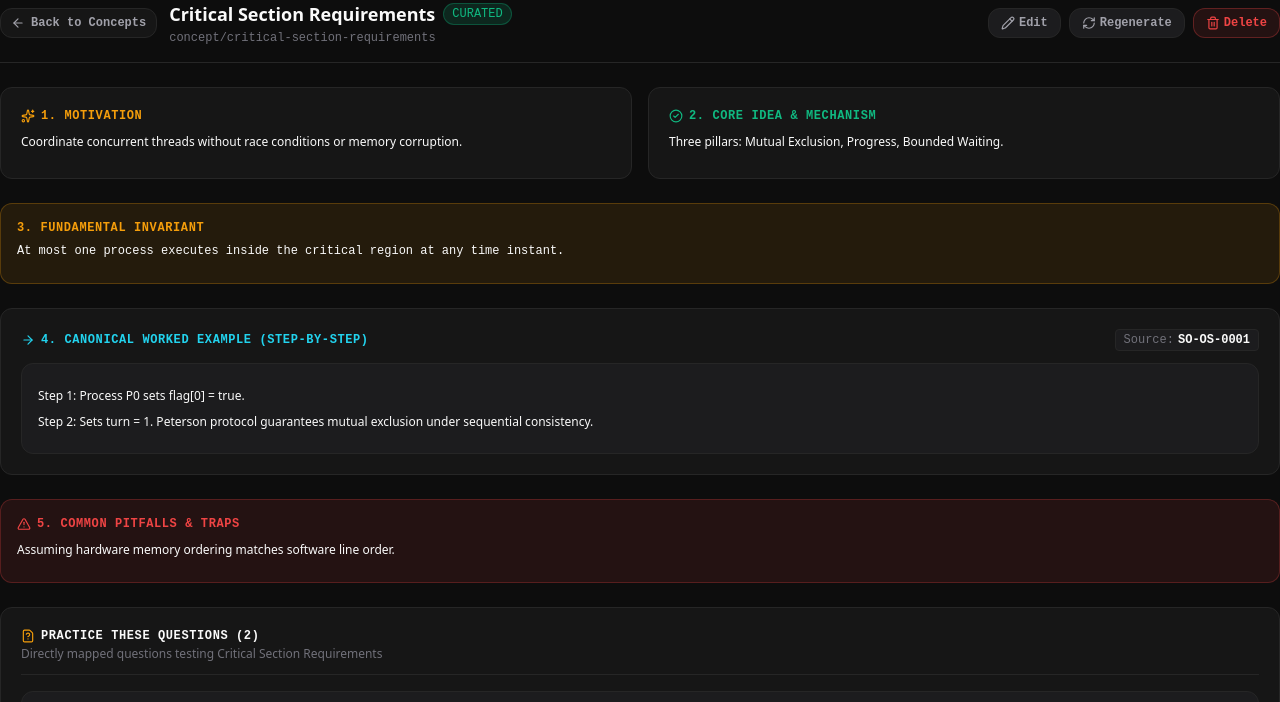
TopicConceptsTab Component › honest-judge PASS - allows admin to edit concept lesson and save modifications
The width and height of the screenshot is (1280, 702).
Click the button with test id "edit-lesson-btn": (1024, 23) x1=988 y1=8 x2=1061 y2=38
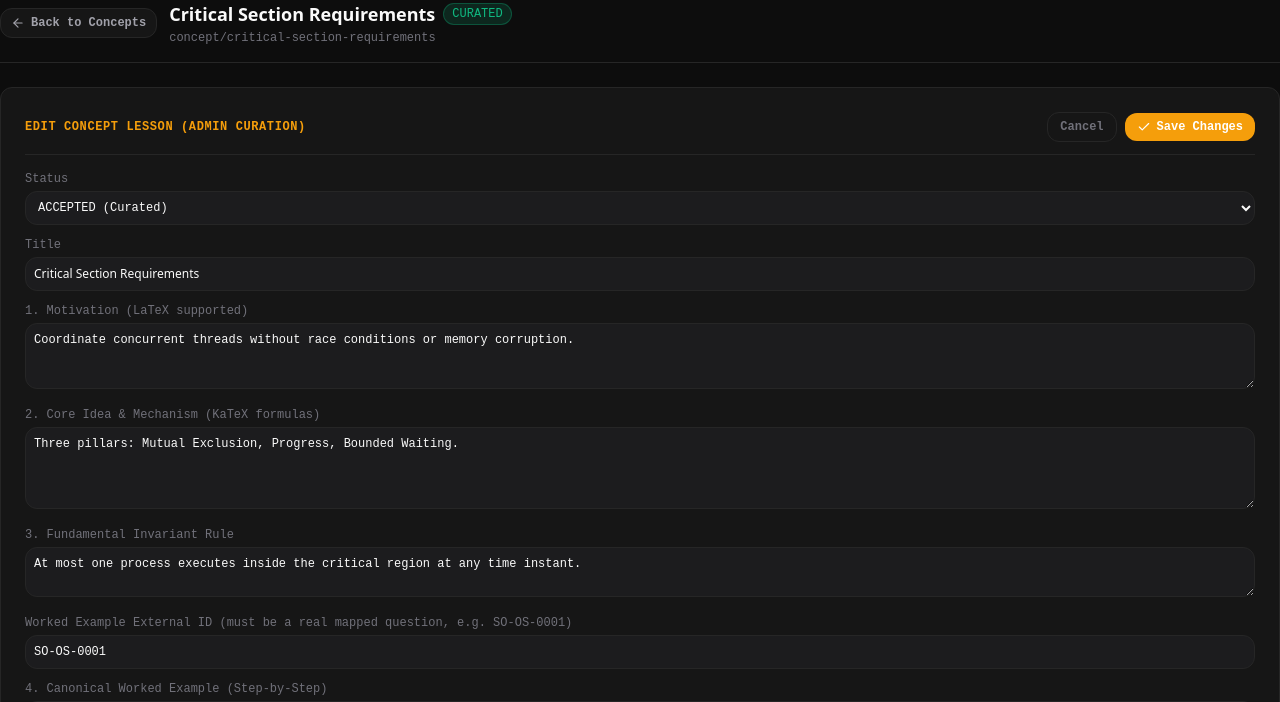
Click the button with test id "save-lesson-edit-btn": (1190, 127) x1=1125 y1=113 x2=1255 y2=141
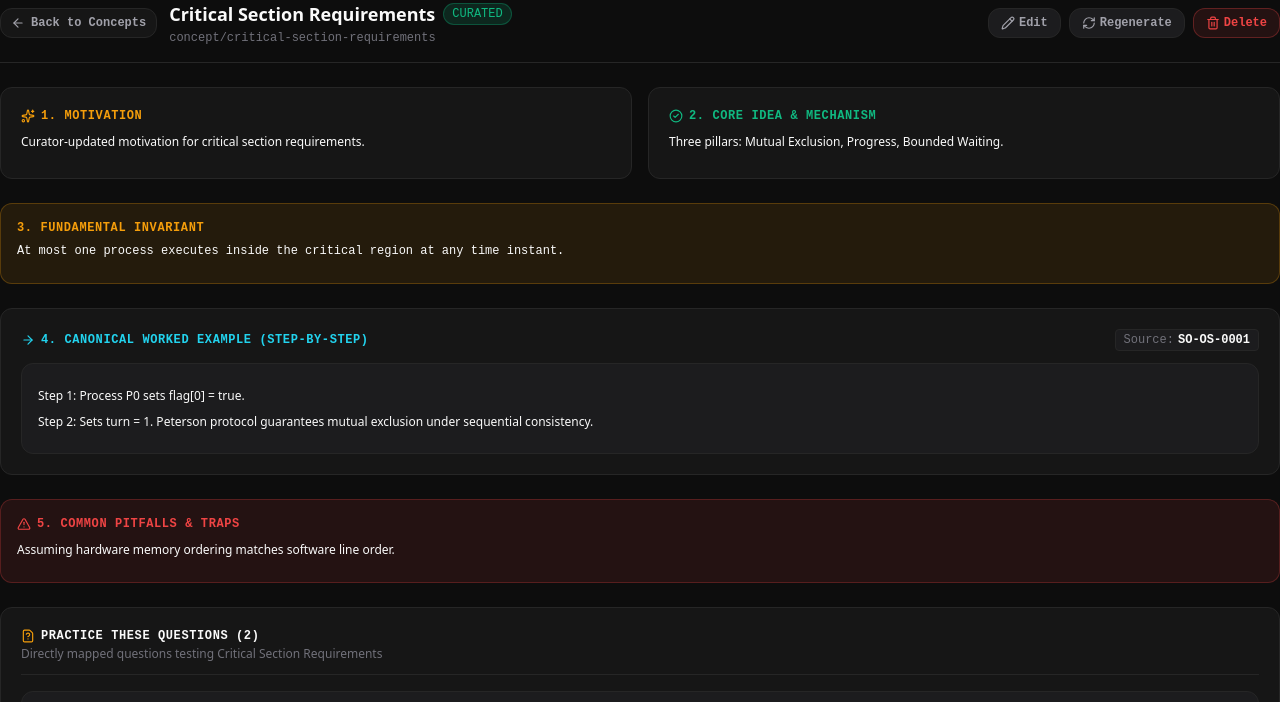
expect the text "Curator-updated motivation for critical section requirements." is shown: met, box x1=21 y1=133 x2=365 y2=150
